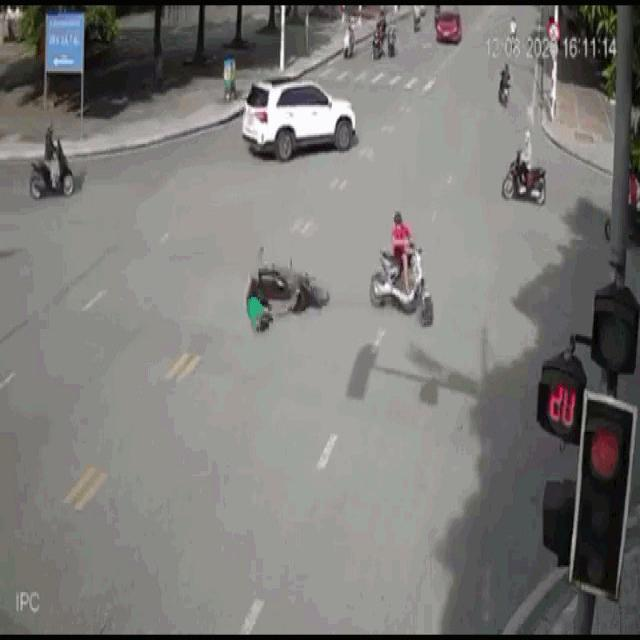multiple_accident: (239, 207, 437, 342)
